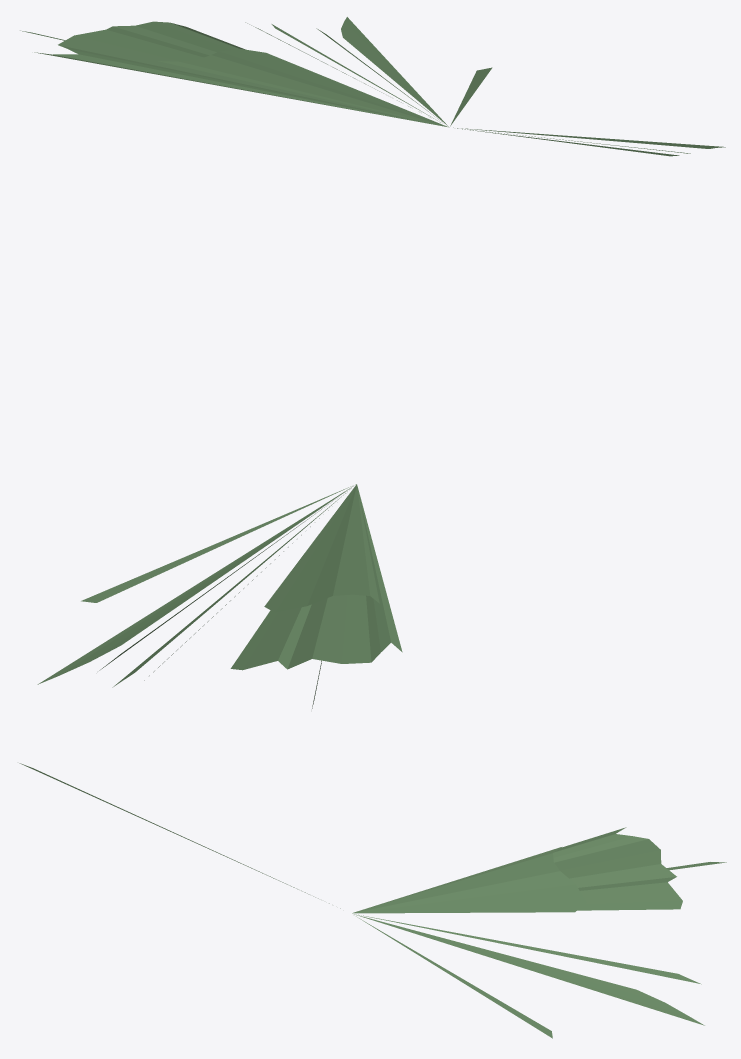
Rendered from c_1668_17834_forest.glb.
3 views of the same model, one above another, from view 1: azimuth 30°, elevation 25°; view 2: azimuth 150°, elevation 25°; view 3: azimuth 270°, elevation 25° (orthographic). The views are drawn at different scales.
Parts seen in each view (by area): view 1: geometry_0; view 2: geometry_0; view 3: geometry_0.
Part boxes in pixels (x1,y1,x2,y2): geometry_0: (20,17,725,156); geometry_0: (37,484,402,708); geometry_0: (19,763,726,1038).
Bounding box in the file's own units: 347 × 170 × 631.
